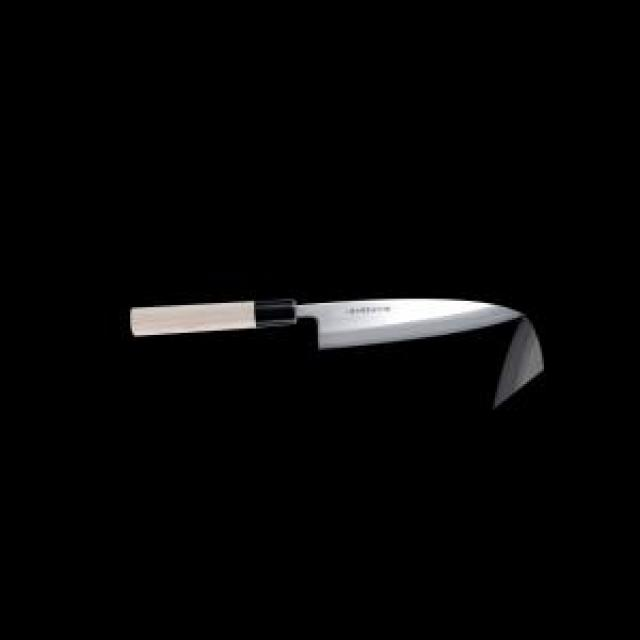knife: (128, 290, 529, 356)
